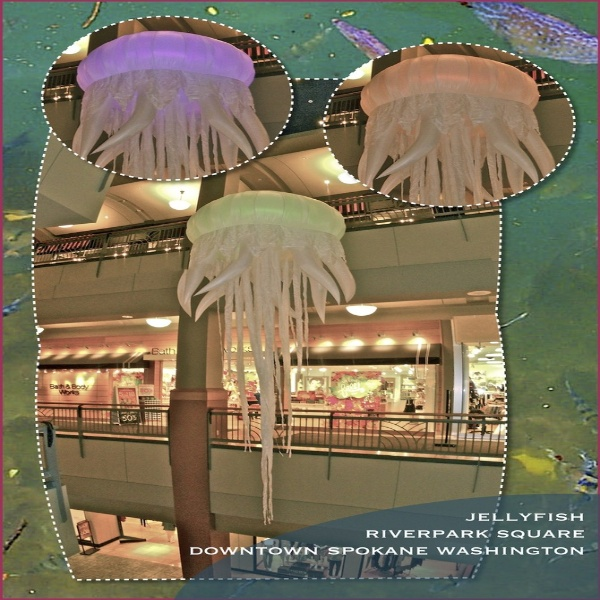Jellyfish: (174, 189, 358, 527), (354, 51, 558, 205), (66, 28, 270, 178)
